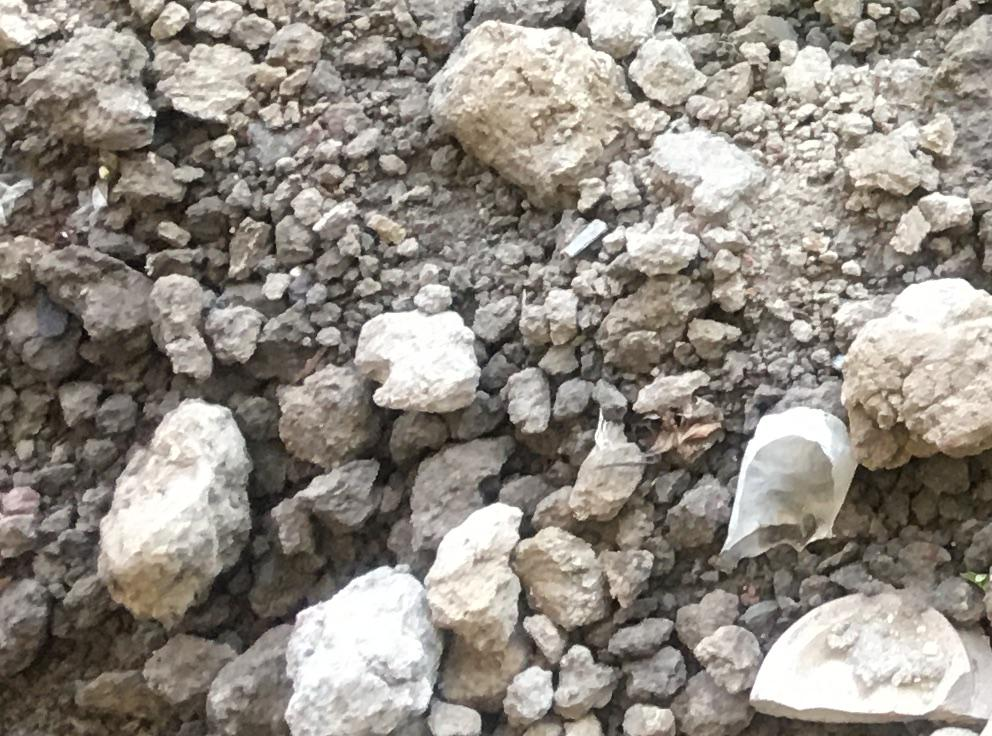block: (92, 397, 255, 617), (437, 25, 634, 203), (847, 278, 992, 471), (283, 565, 439, 736), (21, 27, 155, 155), (427, 498, 521, 660), (353, 309, 481, 414)
